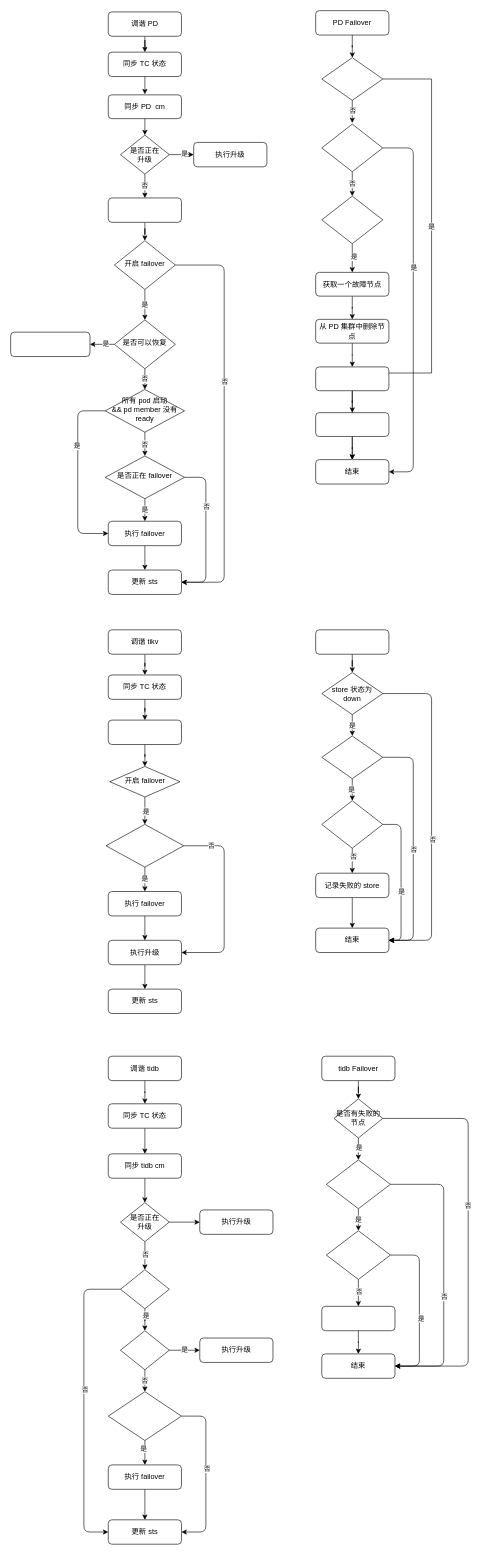
This 484x1555 diagram has some shape labels left out. Here are the shapes that lost their labels. From the top down, the centre of each, then its label:
At (352,78): "健康节点是否 大于半数".
At (352,148): "失败副本数>= MaxFailoverCount".
At (144,209): "执行 pd 扩缩容".
At (352,220): "判断故障时间>= pdFailoverPeriod".
At (50,344): "清除 FailureMembers".
At (352,378): "删除节点 pod".
At (352,424): "设置 FailureMembers".
At (352,641): "tikv Failover".
At (144,732): "同步 tikv cm".
At (352,757): "是否超过故障 时间".
At (352,824): "是否存在失败的 store".
At (144,845): "所有 pod 启动 && store 已经 ready".
At (358,1184): "存在失败的节点 && 超过故障时间".
At (358,1254): "判断节点是否处于调度状态".
At (144,1289): "是否开启 failover".
At (358,1318): "记录失败的 member".
At (144,1350): "是否可恢复".
At (144,1416): "所有 pod 已启动 && 所有 member 没有 ready".
